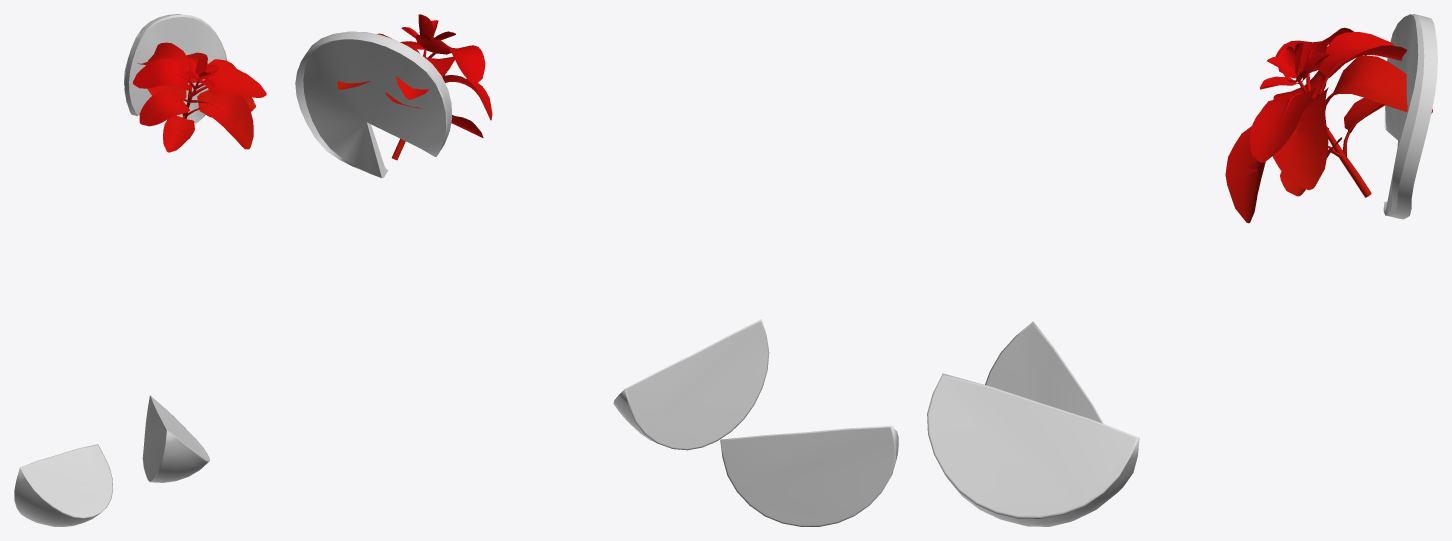
Rendered from Decoration.fbx.
3 views of the same model, side by side, from view 1: azimuth 30°, elevation 25°; view 2: azimuth 150°, elevation 25°; view 3: azimuth 270°, elevation 25° (orthographic). The views are drawn at different scales.
Visible parts, largest first — view 1: _v0e9_Var9_LOD0.001, Sphere.003, Cylinder, Sphere.005; view 2: Cylinder, Sphere.003, Sphere.005, _v0e9_Var9_LOD0.001; view 3: Sphere.005, _v0e9_Var9_LOD0.001, Cylinder, Sphere.003.
Part boxes in pixels (x1,y1,x2,y2): _v0e9_Var9_LOD0.001: [133, 42, 266, 152]; Sphere.003: [14, 444, 113, 526]; Cylinder: [124, 14, 227, 124]; Sphere.005: [142, 395, 209, 482]; Cylinder: [295, 31, 452, 178]; Sphere.003: [720, 425, 898, 526]; Sphere.005: [613, 319, 769, 450]; _v0e9_Var9_LOD0.001: [337, 14, 492, 160]; Sphere.005: [927, 373, 1139, 526]; _v0e9_Var9_LOD0.001: [1225, 27, 1432, 223]; Cylinder: [1383, 14, 1437, 219]; Sphere.003: [985, 321, 1103, 423].
Bounding box in the file's own units: 152 × 170 × 123.
